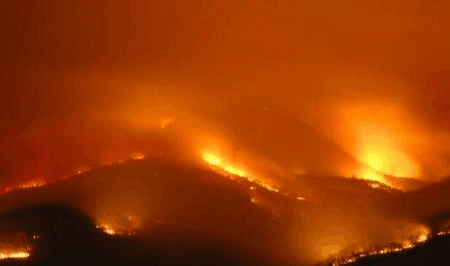fire: (354, 116, 418, 188), (205, 143, 255, 183)
smoke: (6, 7, 447, 112), (5, 118, 198, 205), (265, 118, 351, 258), (105, 207, 266, 255)
